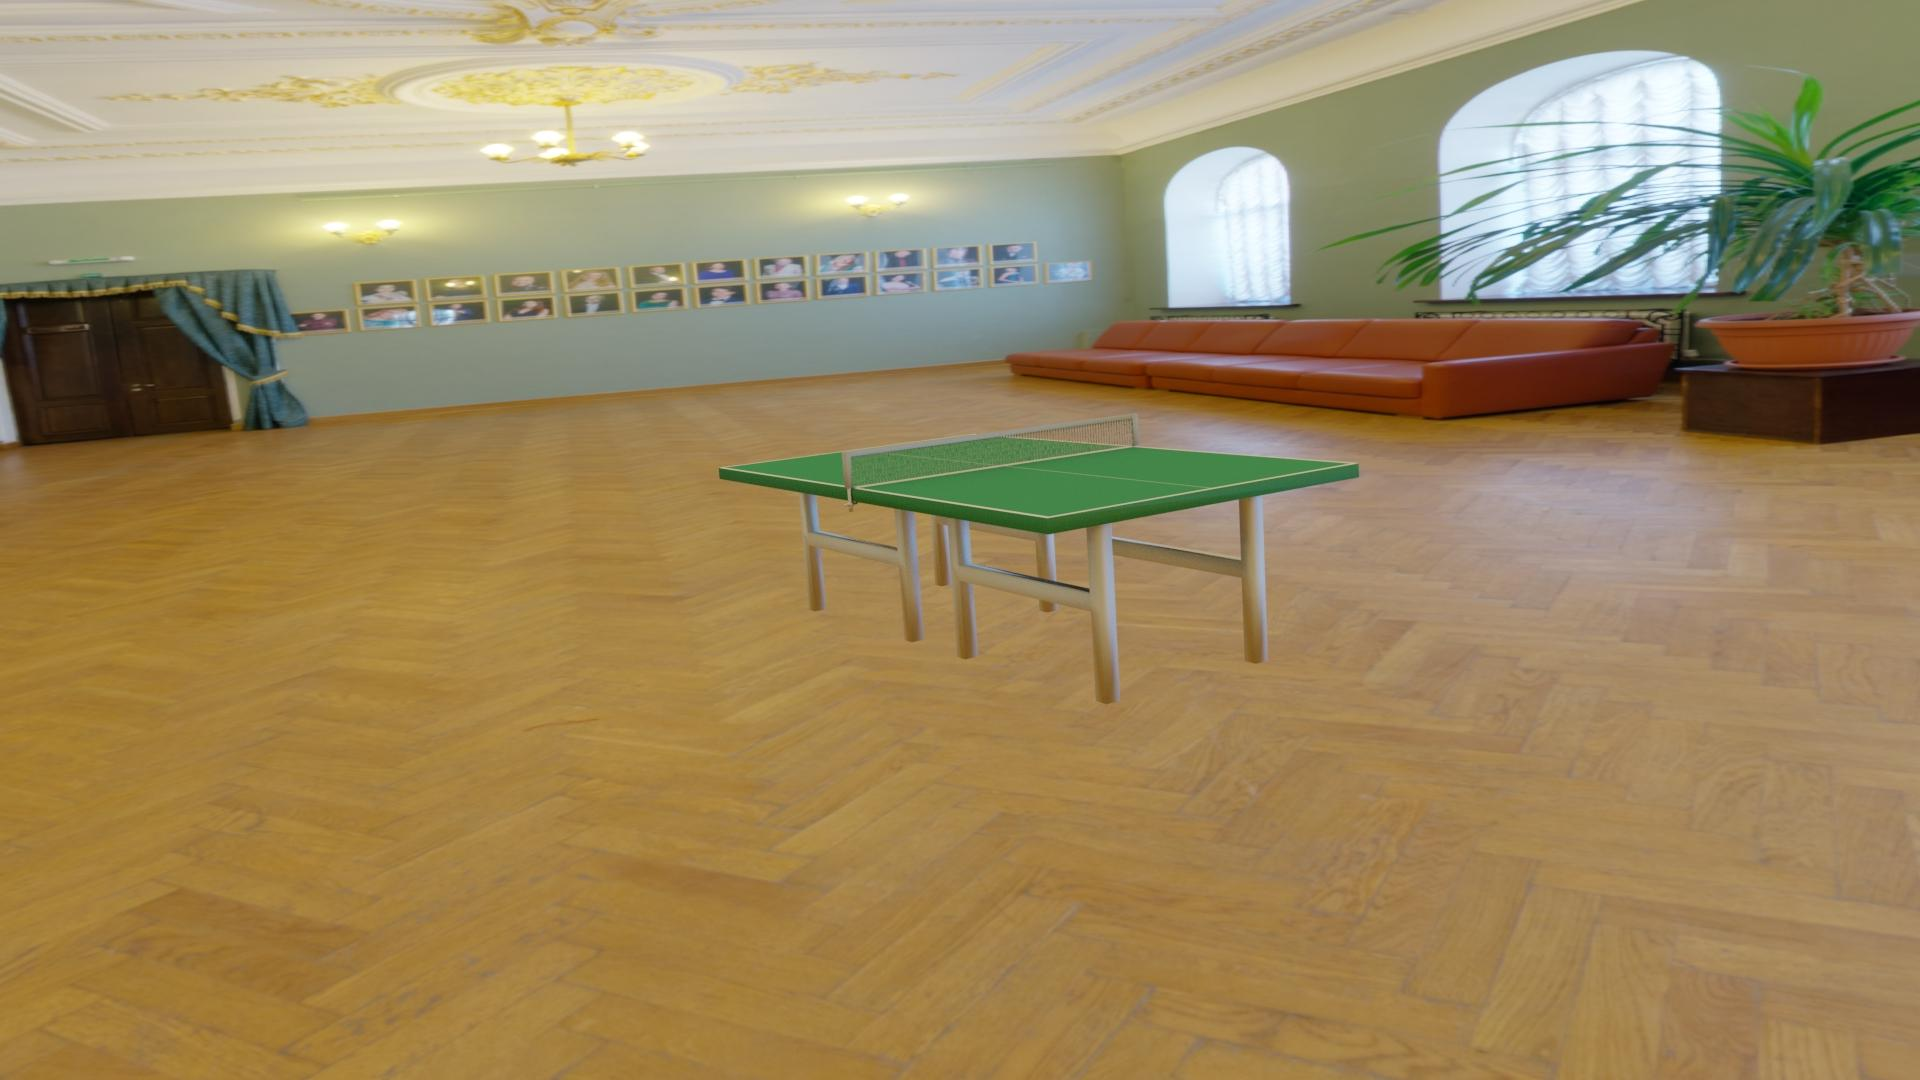table: (724, 435, 1352, 517)
